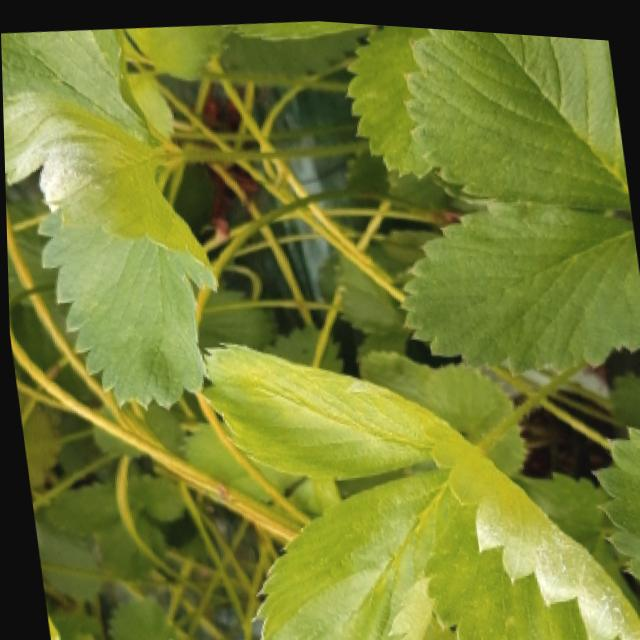Powdery Mildew Leaf: (2, 86, 217, 410), (420, 439, 640, 640)
